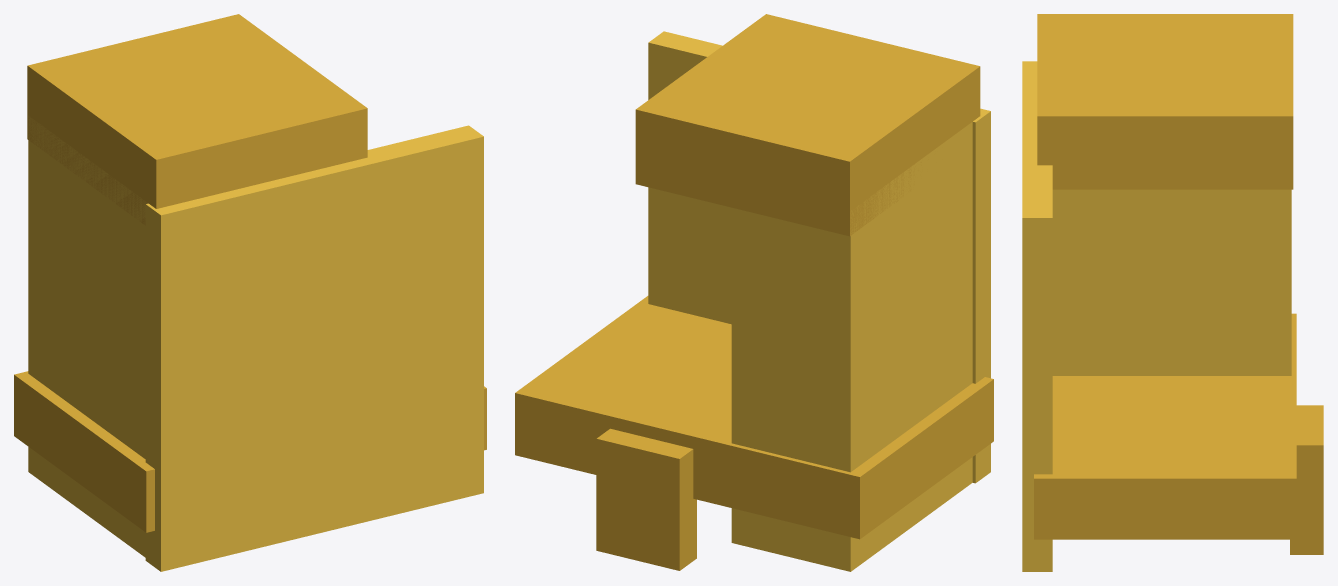
Rendered from monge_tronco.glb.
3 views of the same model, side by side, from view 1: azimuth 30°, elevation 25°; view 2: azimuth 150°, elevation 25°; view 3: azimuth 270°, elevation 25° (orthographic).
Parts seen in each view (by area): view 1: monge_tronco; view 2: monge_tronco; view 3: monge_tronco.
Part boxes in pixels (x1,y1,x2,y2): monge_tronco: (14, 14, 486, 571); monge_tronco: (515, 14, 993, 571); monge_tronco: (1022, 14, 1323, 571).
Size of the model in its own units: 0.58 by 0.7 by 0.4475.
